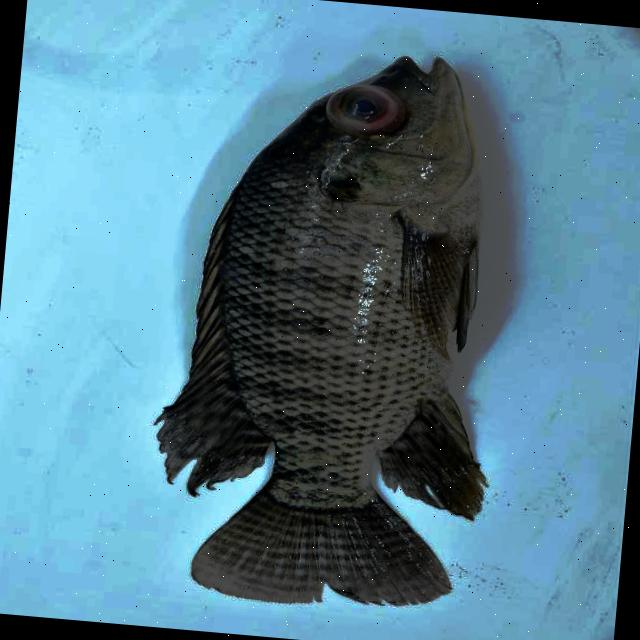Streptococcus: (160, 54, 486, 601)
